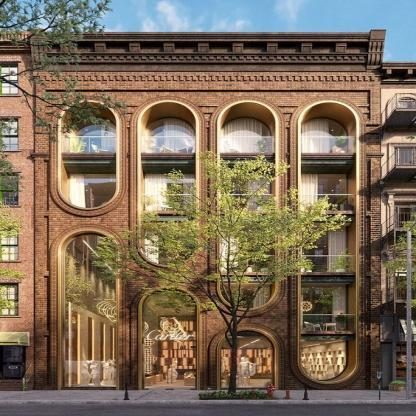Balcony: (62, 136, 116, 153), (302, 136, 356, 153), (141, 136, 195, 153), (221, 136, 275, 153), (302, 194, 356, 211), (141, 194, 195, 211), (221, 194, 275, 211), (302, 315, 356, 331), (221, 256, 275, 272), (302, 256, 356, 272)
Building Outline: (30, 28, 386, 390)
Cornice: (47, 34, 370, 39)
Door: (143, 349, 196, 389)
Facade: (30, 29, 386, 389)
Floor Slab: (35, 153, 381, 158), (35, 211, 381, 216), (127, 273, 380, 278), (206, 332, 381, 337)
Glass Wall: (221, 228, 273, 272), (297, 287, 348, 331), (297, 228, 348, 272), (143, 173, 195, 211), (220, 173, 271, 211), (297, 174, 348, 212), (67, 173, 118, 210), (144, 228, 195, 265), (66, 118, 118, 152), (143, 118, 195, 152), (297, 118, 348, 152), (220, 118, 271, 152), (221, 285, 271, 309)
Molding: (36, 75, 381, 82), (47, 53, 368, 60)
Shop: (63, 234, 116, 386), (143, 290, 195, 349), (221, 332, 274, 388), (297, 340, 348, 380), (147, 330, 194, 341)
Window: (301, 102, 356, 382), (220, 102, 276, 309), (140, 101, 196, 265), (60, 230, 117, 390), (60, 102, 117, 208), (142, 288, 196, 389), (220, 331, 274, 390)
